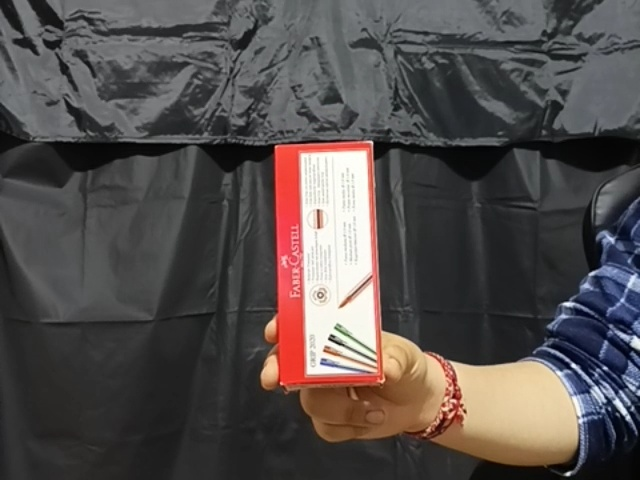xd: (273, 140, 386, 387)
